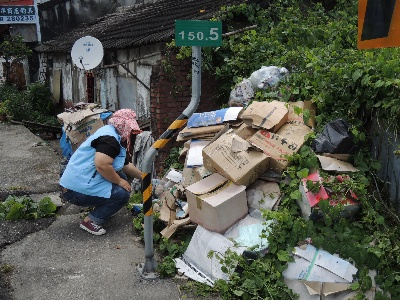box: (202, 128, 270, 185), (187, 172, 250, 233)
